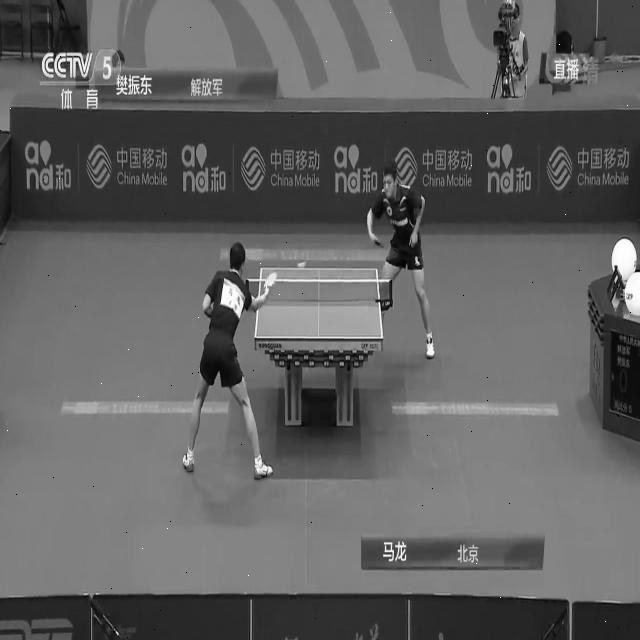ping-pong-ball: (296, 260, 304, 266)
